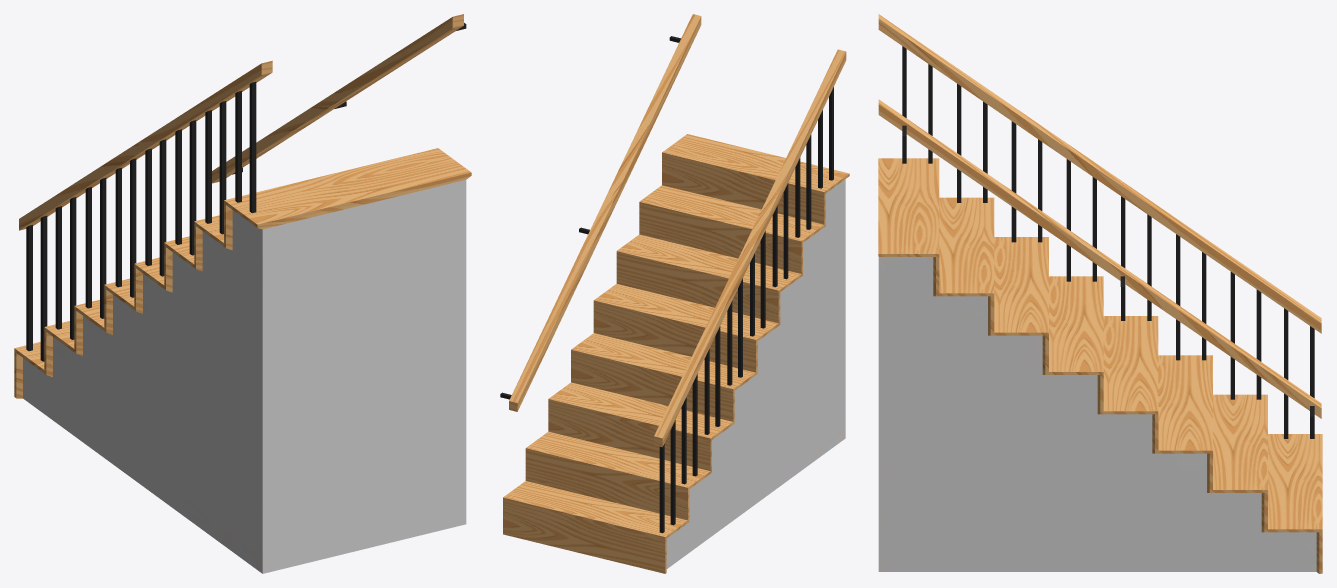
File: Stairs.fbx
3 renders of one model, left to right at view 1: azimuth 30°, elevation 25°; view 2: azimuth 150°, elevation 25°; view 3: azimuth 270°, elevation 25°, orthographic. The views are drawn at different scales.
Visible parts, largest first — view 1: stairs; view 2: stairs; view 3: stairs.
Boxes of the visible parts, bbox=[...] form: stairs: bbox=[14, 14, 471, 573]; stairs: bbox=[500, 14, 849, 573]; stairs: bbox=[878, 14, 1322, 573].
Size of the model in its own units: 1492 by 786 by 1729.
Materials: 1 (1 with a texture image).
